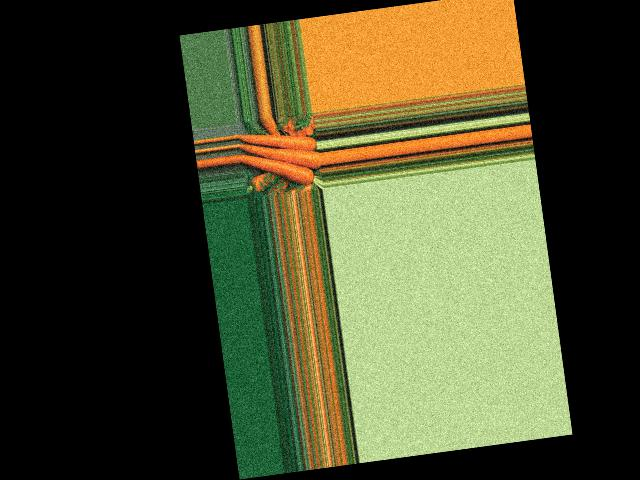carrot: (242, 145, 314, 194)
